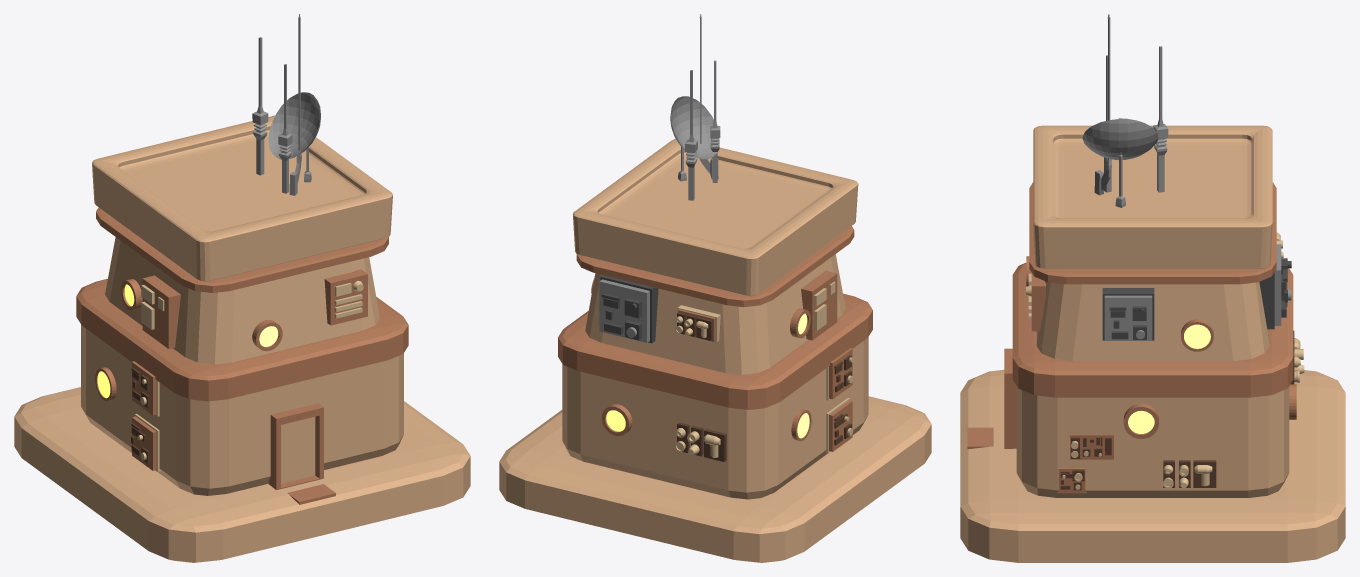
File: nomad_building_25.fbx
3 renders of one model, left to right at view 1: azimuth 30°, elevation 25°; view 2: azimuth 150°, elevation 25°; view 3: azimuth 270°, elevation 25°, orthographic. The views are drawn at different scales.
Visible parts, largest first — view 1: B25_M_Foundation_square, B25_M_R10_roof_simple, B25_M_Blk00_base, B25_M_Blk10_Cube004, B25_M_B00_Band_square_diameter_thich, B25_M_B10_Band_square_diameter_default, B25_M_Dish0_AntennaDish_Reflector, B25_M_Door_Door_Frame, B25_M_Door_Door_Leaf, B25_M_Panel0_PanelBox_Body, B25_M_Panel2_PanelBox_Body001, B25_M_Mast0_AntennaMast_Bulky (+5 smaller); view 2: B25_M_Foundation_square, B25_M_R10_roof_simple, B25_M_Blk00_base, B25_M_B00_Band_square_diameter_thich, B25_M_Blk10_Cube004, B25_M_B10_Band_square_diameter_default, B25_M_Panel6_MeterBox_Face001, B25_M_Dish0_AntennaDish_Reflector, B25_M_Panel0_PanelBox_Body, B25_M_Mast0_AntennaMast_Bulky, B25_M_Panel5_MeterBox_Face005, B25_M_Panel6_MeterBox_Backplate001 (+2 smaller); view 3: B25_M_Foundation_square, B25_M_R10_roof_simple, B25_M_Blk00_base, B25_M_Blk10_Cube004, B25_M_B00_Band_square_diameter_thich, B25_M_B10_Band_square_diameter_default, B25_M_Dish0_AntennaDish_Reflector, B25_M_Panel1_MeterBox_Face001, B25_M_Door_Door_Frame, B25_M_Mast0_AntennaMast_Bulky, B25_M_Panel2_PanelBox_Body001, B25_M_Mast1_AntennaMast_Offset (+8 smaller).
Part boxes in pixels (x1,y1,x2,y2): B25_M_Foundation_square: (14,387,470,562); B25_M_R10_roof_simple: (92,115,392,281); B25_M_Blk00_base: (81,325,403,495); B25_M_Blk10_Cube004: (105,237,379,364); B25_M_B00_Band_square_diameter_thich: (76,279,408,401); B25_M_B10_Band_square_diameter_default: (96,207,388,292); B25_M_Dish0_AntennaDish_Reflector: (268,92,320,159); B25_M_Door_Door_Frame: (268,403,323,490); B25_M_Door_Door_Leaf: (281,417,315,483); B25_M_Panel0_PanelBox_Body: (142,275,180,348); B25_M_Panel2_PanelBox_Body001: (324,269,367,325); B25_M_Mast0_AntennaMast_Bulky: (252,37,268,175); B25_M_Foundation_square: (499,396,931,562); B25_M_R10_roof_simple: (573,138,858,296); B25_M_Blk00_base: (562,337,868,499); B25_M_B00_Band_square_diameter_thich: (558,293,872,409); B25_M_Blk10_Cube004: (585,254,845,374); B25_M_B10_Band_square_diameter_default: (576,226,854,307); B25_M_Panel6_MeterBox_Face001: (599,279,649,342); B25_M_Dish0_AntennaDish_Reflector: (670,96,719,159); B25_M_Panel0_PanelBox_Body: (801,270,837,340); B25_M_Mast0_AntennaMast_Bulky: (685,70,697,200); B25_M_Panel5_MeterBox_Face005: (829,400,852,451); B25_M_Panel6_MeterBox_Backplate001: (600,275,658,343); B25_M_Foundation_square: (960,369,1345,562); B25_M_R10_roof_simple: (1033,125,1272,268); B25_M_Blk00_base: (1016,386,1289,497); B25_M_Blk10_Cube004: (1036,281,1269,361); B25_M_B00_Band_square_diameter_thich: (1012,263,1293,397); B25_M_B10_Band_square_diameter_default: (1029,182,1276,284); B25_M_Dish0_AntennaDish_Reflector: (1082,118,1158,160); B25_M_Panel1_MeterBox_Face001: (1104,295,1152,340); B25_M_Door_Door_Frame: (1004,348,1016,448); B25_M_Mast0_AntennaMast_Bulky: (1153,46,1168,192); B25_M_Panel2_PanelBox_Body001: (1031,273,1045,331); B25_M_Mast1_AntennaMast_Offset: (1094,14,1111,195).
Size of the model in its own units: 325 by 459 by 325.
